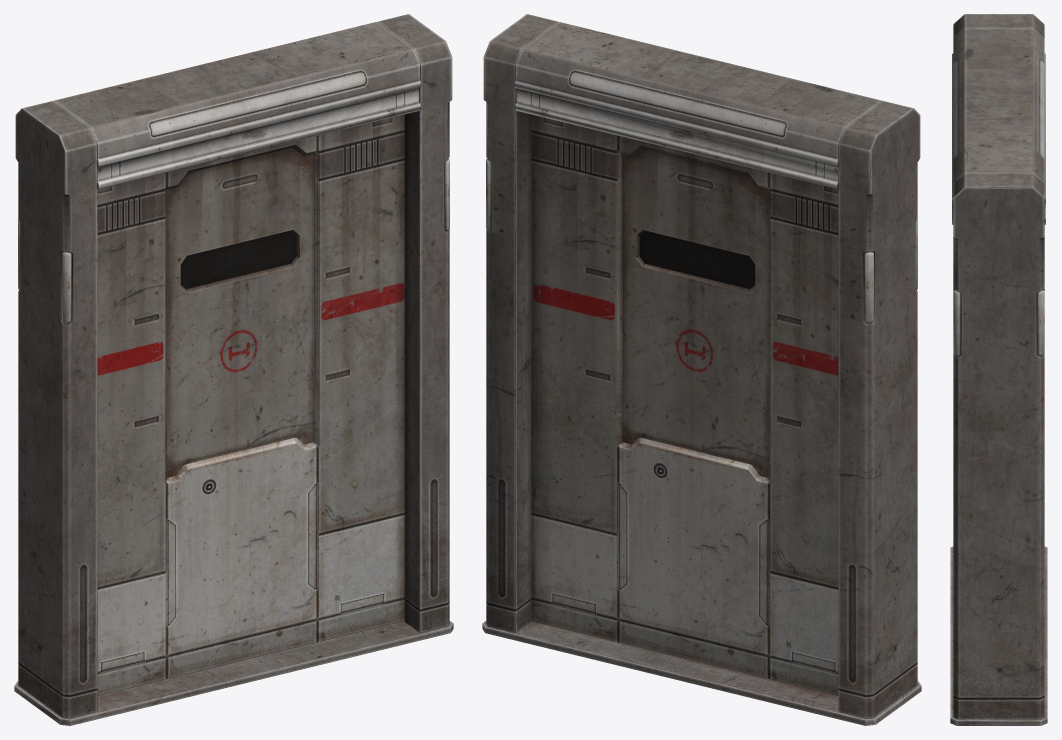
Rendered from slidedoor_theta_small.dae.
3 renders of one model, left to right at view 1: azimuth 30°, elevation 25°; view 2: azimuth 150°, elevation 25°; view 3: azimuth 270°, elevation 25°, orthographic. The views are drawn at different scales.
Parts seen in each view (by area): view 1: door__2_, frame__2_; view 2: door__2_, frame__2_; view 3: frame__2_.
Boxes of the visible parts, x1,y1,x2,y2 form: door__2_: [97, 114, 404, 695]; frame__2_: [14, 14, 453, 725]; door__2_: [531, 114, 838, 695]; frame__2_: [482, 14, 921, 725]; frame__2_: [950, 14, 1047, 725].
Size of the model in its own units: 2.28 by 3.25 by 0.5349.
